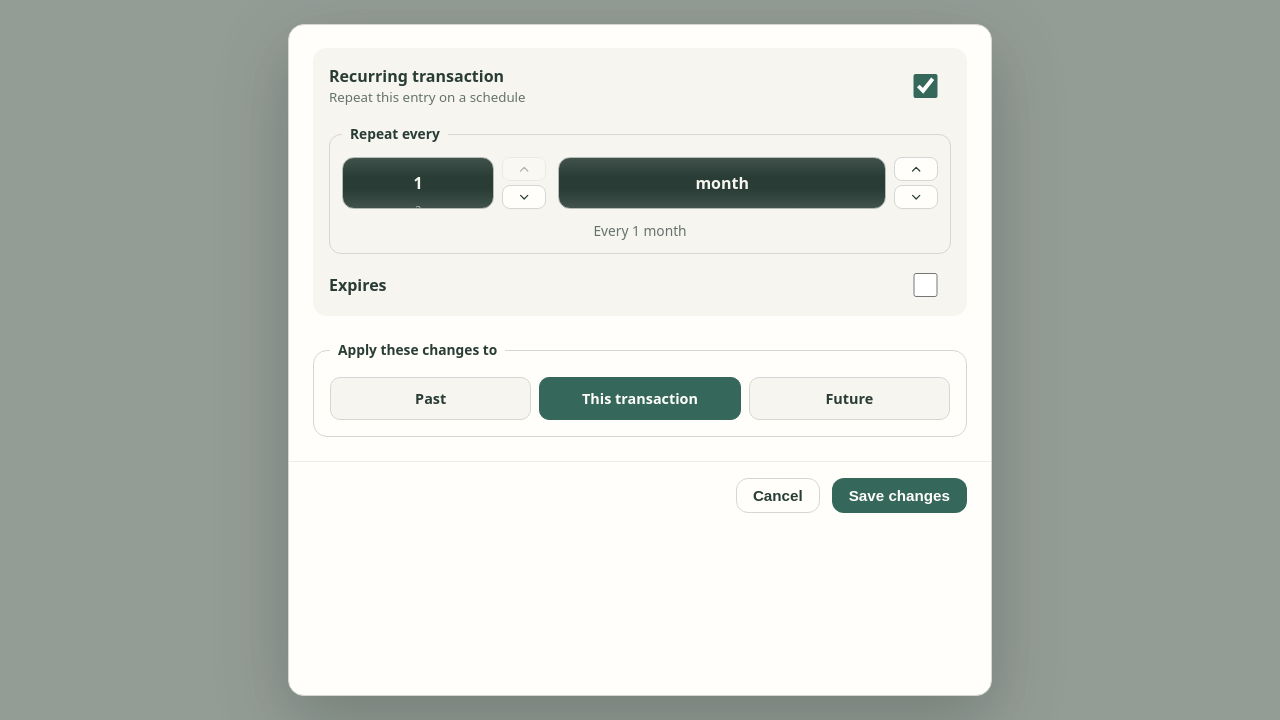
transaction form + query + HTTP client › disables recurring edits when no occurrences are selected
(page scrolled)
Step 1. Click the checkbox labelled "This transaction" → (640, 398), box [539, 377, 741, 420]
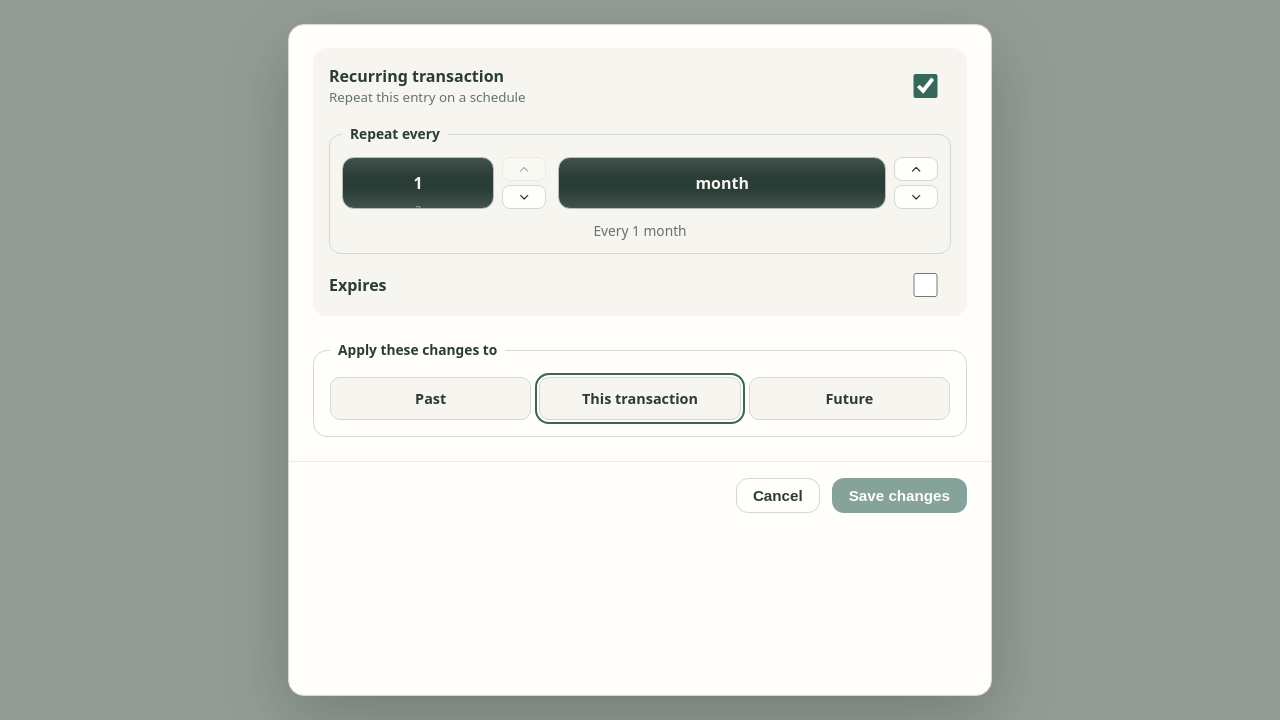
Result: the button "Save changes" is disabled at [832, 478, 967, 512]
Step 2. Click the checkbox labelled "Future" → (849, 398), box [749, 377, 950, 420]
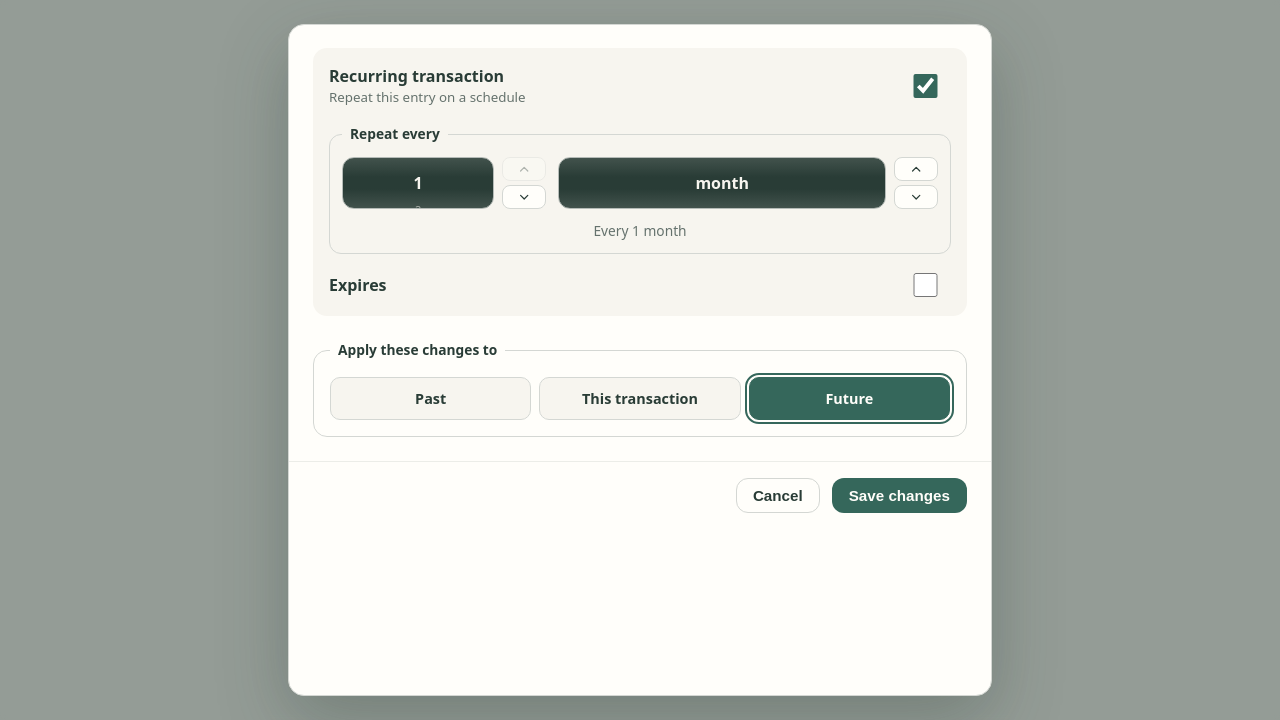
Result: the button "Save changes" is enabled at [832, 478, 967, 512]
